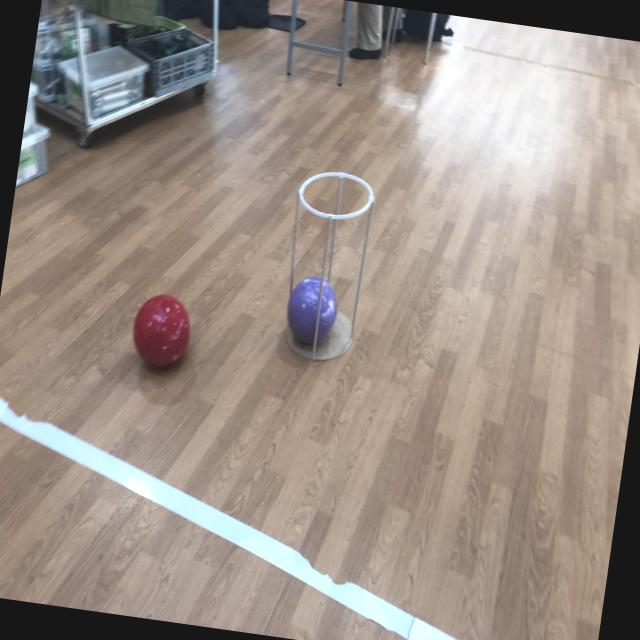purple_ball: (283, 276, 342, 346)
red_ball: (128, 292, 197, 372)
